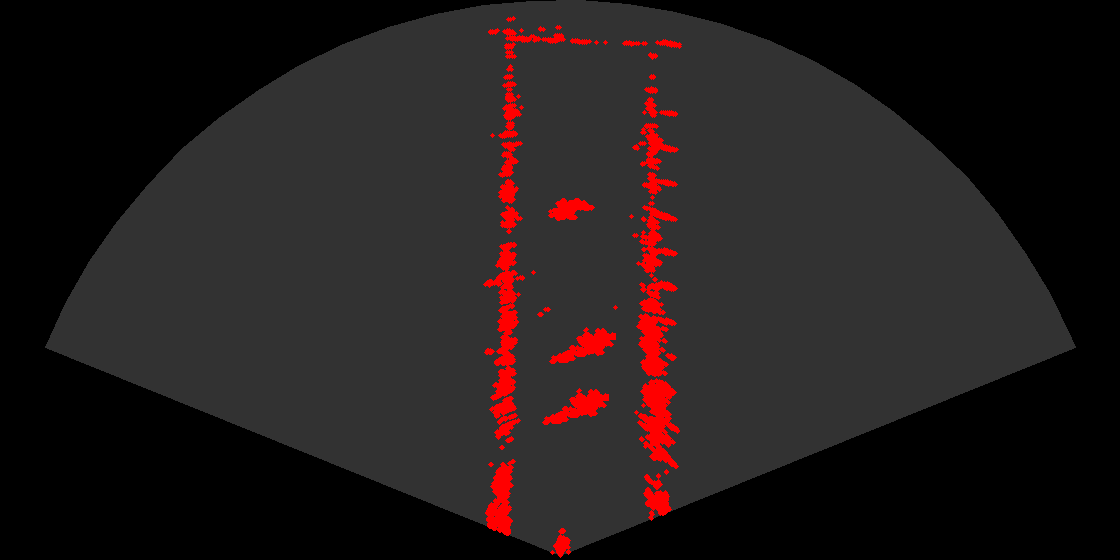AUV: (542, 196, 598, 228)
frogman: (541, 382, 609, 429), (548, 321, 616, 368)
